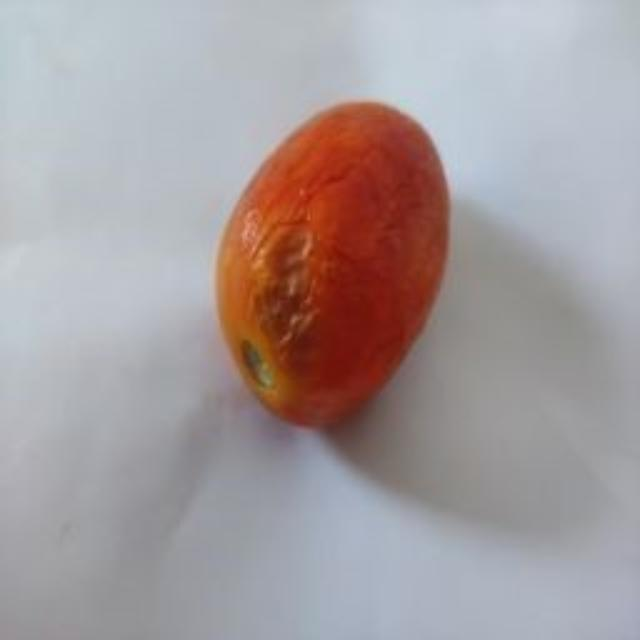defect: (212, 90, 464, 435)
